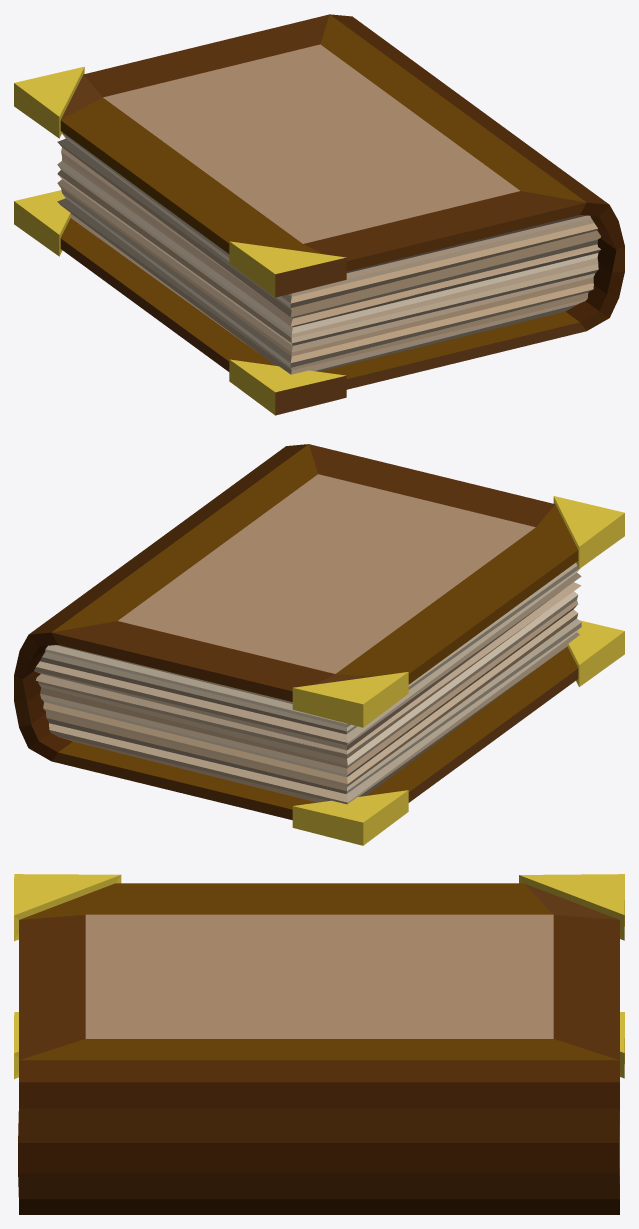
The model's file is book.fbx.
3 views of the same model, one above another, from view 1: azimuth 30°, elevation 25°; view 2: azimuth 150°, elevation 25°; view 3: azimuth 270°, elevation 25° (orthographic). The views are drawn at different scales.
Parts seen in each view (by area): view 1: Cube.001; view 2: Cube.001; view 3: Cube.001.
Part boxes in pixels (x1,y1,x2,y2): Cube.001: [14, 14, 624, 415]; Cube.001: [14, 444, 624, 845]; Cube.001: [14, 874, 624, 1214].
Size of the model in its own units: 474 by 142 by 368.
